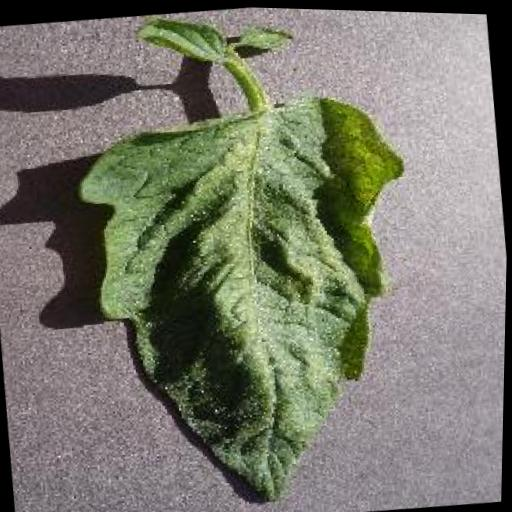Spider Mites: (66, 74, 439, 512)
